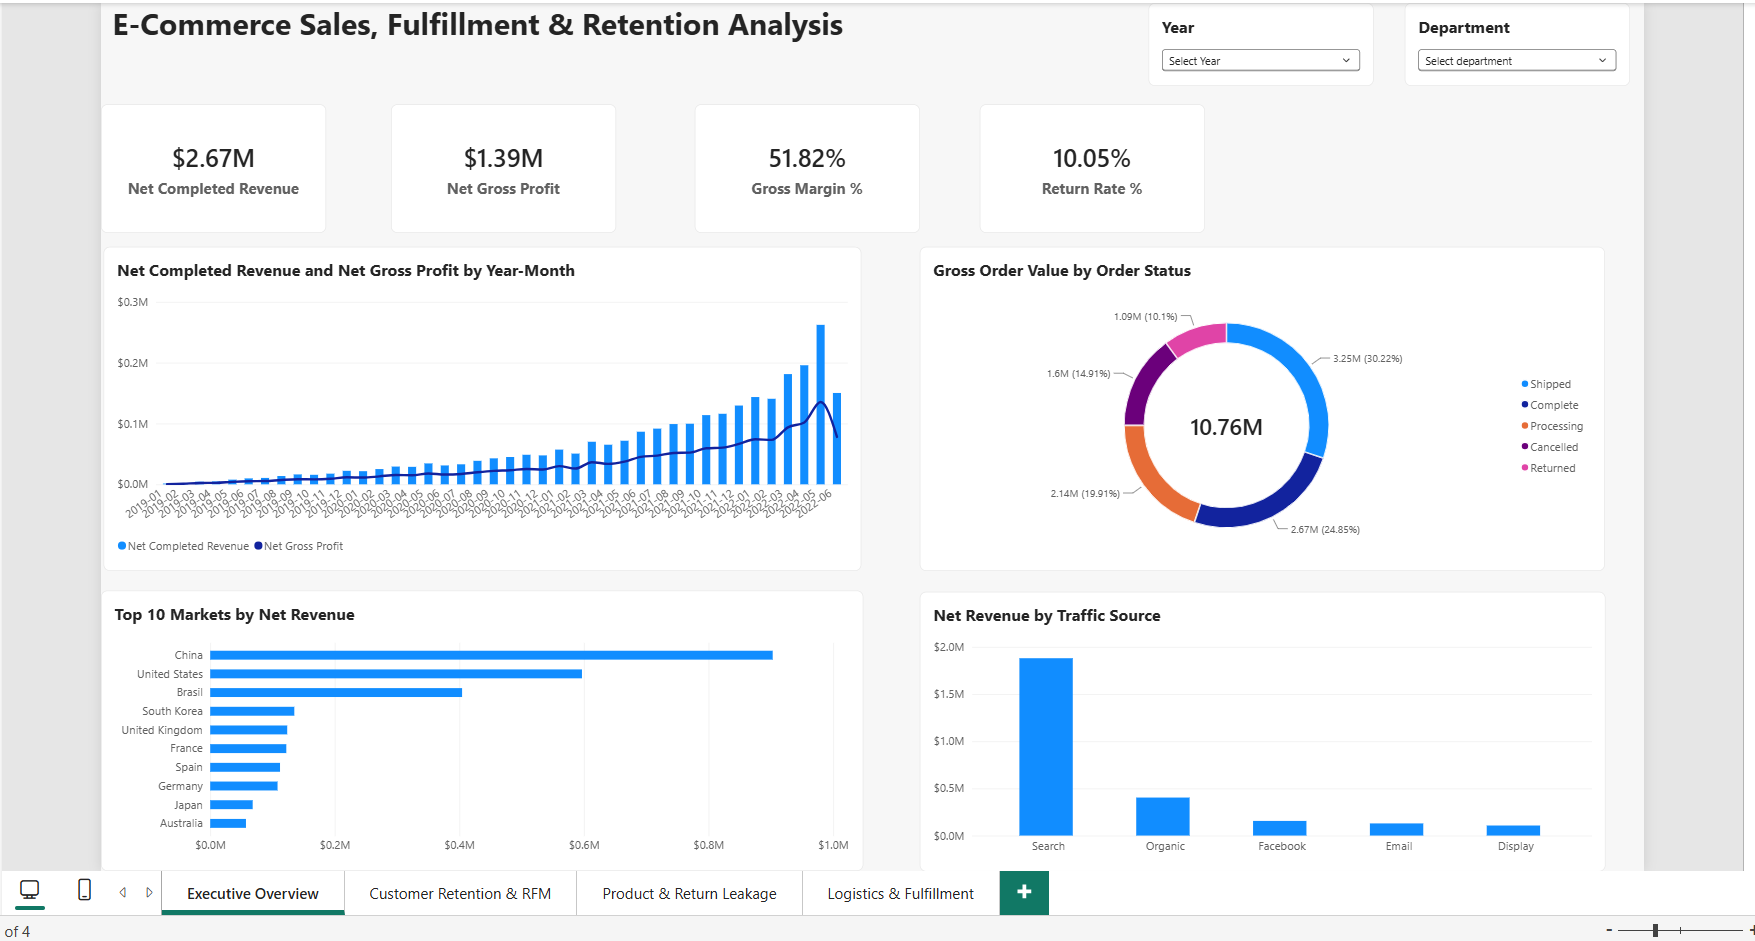

What the dashboard file says about the page in this screenshot:
{"tool":"powerbi","page":{"name":"Executive Overview","canvas":[1920,1080],"ordinal":0},"visuals":[{"type":"lineClusteredColumnComboChart","title":"Net Completed Revenue and Net Gross Profit by Year-Month","fields":{"Category":["Dim_Date.Year-Month"],"Y":["_Measures.Net Completed Revenue"],"Y2":["_Measures.Net Gross Profit"]},"box":[3.8,302.8,942.5,403.2],"z":0},{"type":"donutChart","title":"Gross Order Value by Order Status","fields":{"Category":["vw_fact_sales.item_status"],"Y":["_Measures.Gross Order Value"]},"box":[1017.4,302.8,852.4,403.2],"z":1000},{"type":"clusteredBarChart","title":"Top 10 Markets by Net Revenue","fields":{"Category":["vw_dim_customers.country"],"Y":["_Measures.Net Completed Revenue"]},"box":[0,730.2,947.6,348.8],"z":2000},{"type":"clusteredColumnChart","title":"Net Revenue by Traffic Source","fields":{"Category":["vw_dim_customers.traffic_source"],"Y":["_Measures.Net Completed Revenue"]},"box":[1017.7,732.1,853,348],"z":3000},{"type":"card","fields":{"Values":["_Measures.Return Rate %"]},"box":[1092.4,126.5,279.8,160.1],"z":4000},{"type":"card","fields":{"Values":["_Measures.Net Completed Revenue"]},"box":[0,126.5,279.8,160.1],"z":5000},{"type":"card","fields":{"Values":["_Measures.Net Gross Profit"]},"box":[360.3,126.5,279.8,160.1],"z":6000},{"type":"card","fields":{"Values":["_Measures.Gross Margin %"]},"box":[737.9,126.5,279.8,160.1],"z":7000},{"type":"textbox","box":[13.4,0,1003.8,103.8],"z":8000},{"type":"listSlicer","fields":{"Values":["Dim_Date.Year"]},"box":[1303.3,0,279.8,103.5],"z":9000},{"type":"listSlicer","title":"Department","fields":{"Values":["vw_dim_products.department"]},"box":[1621.4,0,279.8,103.5],"z":10000}]}

Visuals, with their boxes on the page's 1920x1080 design canvas (x1, y1, x2, y2). These are canvas units, not pixel positions in the 1755x941 screenshot, which may show the page scaled, cropped or inside an application window:
"Net Completed Revenue and Net Gross Profit by Year-Month" lineClusteredColumnComboChart: 4/303/946/706
"Gross Order Value by Order Status" donutChart: 1017/303/1870/706
"Top 10 Markets by Net Revenue" clusteredBarChart: 0/730/948/1079
"Net Revenue by Traffic Source" clusteredColumnChart: 1018/732/1871/1080
card - _Measures.Return Rate %: 1092/126/1372/287
card - _Measures.Net Completed Revenue: 0/126/280/287
card - _Measures.Net Gross Profit: 360/126/640/287
card - _Measures.Gross Margin %: 738/126/1018/287
textbox: 13/0/1017/104
listSlicer - Dim_Date.Year: 1303/0/1583/104
"Department" listSlicer: 1621/0/1901/104
